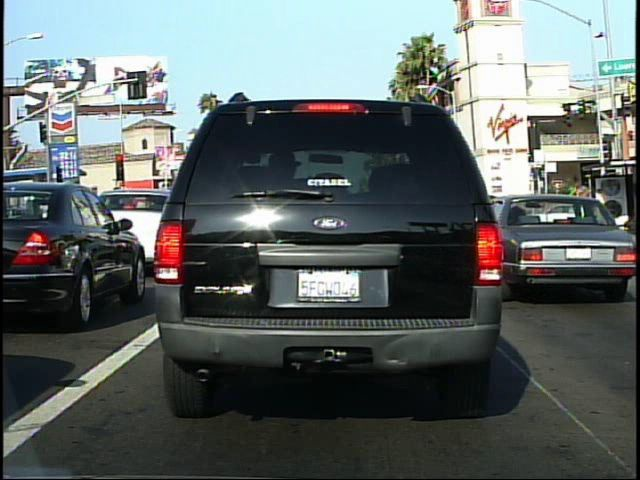person: (590, 183, 612, 244)
